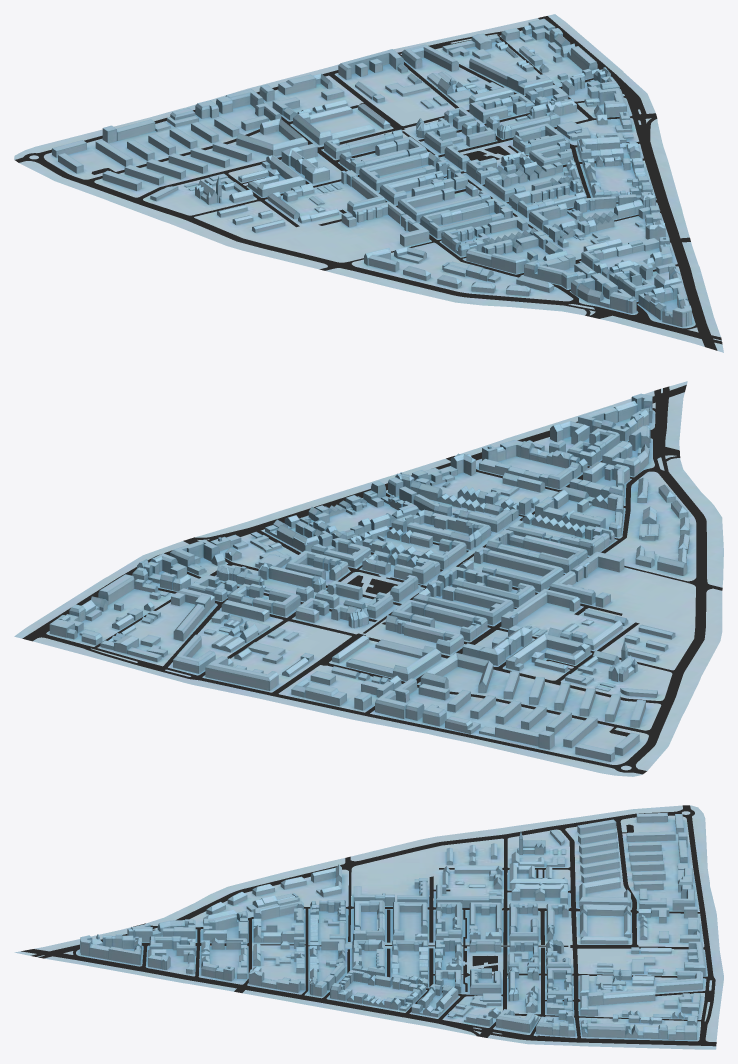
File: Bremerhaven_250731_local.gltf
3 renders of one model, top to bottom at view 1: azimuth 30°, elevation 25°; view 2: azimuth 150°, elevation 25°; view 3: azimuth 270°, elevation 25°, orthographic. The views are drawn at different scales.
Parts seen in each view (by area): view 1: Terrain, Streets, Cube.012, Cube.071, Cube.001, 10x12.019, Cube.107, Cube.091, Cube.115, 10x12.004, Cube.130, 10x12.075 (+7 smaller); view 2: Terrain, Streets, Cube.001, 10x12.019, Cube.012, Cube.115, Cube.071, Cube.091, Cube.107, 10x12.004, 10x12.076, 10x12.011 (+11 smaller); view 3: Terrain, Streets, Cube.115, Cube.107, Cube.071, Cube.130, 10x12.004, 10x12.019, 10x12.076, Cube.012, Cube.072, Cube.001 (+11 smaller).
Boxes of the visible parts, box(x1,y1,x2,y2) form: Terrain: box(14, 14, 723, 352); Streets: box(15, 16, 722, 350); Cube.012: box(359, 154, 426, 190); Cube.071: box(236, 118, 307, 156); Cube.001: box(398, 190, 481, 222); 10x12.019: box(248, 155, 305, 197); Cube.107: box(469, 57, 553, 94); Cube.091: box(338, 49, 403, 79); Cube.115: box(548, 28, 599, 79); 10x12.004: box(281, 147, 329, 183); Cube.130: box(402, 44, 458, 71); 10x12.075: box(515, 123, 564, 150); Terrain: box(14, 381, 723, 776); Streets: box(22, 385, 722, 774); Cube.001: box(487, 550, 563, 592); 10x12.019: box(506, 633, 590, 670); Cube.012: box(427, 587, 513, 625); Cube.115: box(69, 574, 158, 621); Cube.071: box(420, 652, 493, 692); Cube.091: box(205, 656, 278, 690); Cube.107: box(171, 588, 214, 641); 10x12.004: box(479, 625, 532, 665); 10x12.076: box(170, 539, 219, 575); 10x12.011: box(512, 589, 580, 622); Terrain: box(14, 805, 723, 1049); Streets: box(21, 805, 716, 1046); Cube.115: box(581, 1020, 667, 1039); Cube.107: box(580, 989, 655, 1015); Cube.071: box(579, 877, 630, 907); Cube.130: box(656, 970, 702, 992); 10x12.004: box(511, 882, 567, 900); 10x12.019: box(509, 863, 567, 889); 10x12.076: box(496, 1009, 538, 1032); Cube.012: box(469, 902, 501, 930); Cube.072: box(580, 904, 630, 916); Cube.001: box(393, 902, 427, 930).
Bounding box in the file's own units: 930 × 42.41 × 1143.
Materials: 3 (2 with a texture image).
